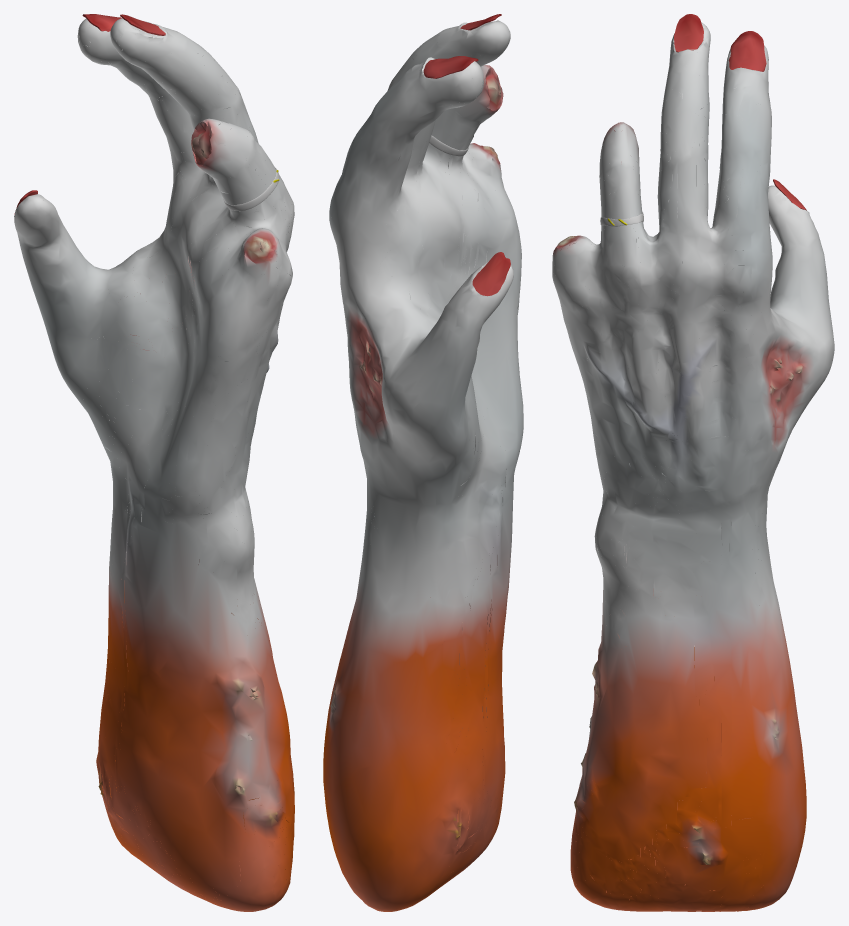
File: sketchfab-zombie-hand-ruella.glb
3 views of the same model, side by side, from view 1: azimuth 30°, elevation 25°; view 2: azimuth 150°, elevation 25°; view 3: azimuth 270°, elevation 25° (orthographic). The views are drawn at different scales.
Visible parts, largest first — view 1: Object_11, Object_12, Object_5; view 2: Object_11, Object_12, Object_5; view 3: Object_11, Object_12, Object_5.
Boxes of the visible parts, box(x1,y1,x2,y2) form: Object_11: box(14, 18, 294, 911); Object_12: box(42, 21, 294, 909); Object_5: box(14, 14, 165, 214); Object_11: box(323, 20, 523, 911); Object_12: box(331, 22, 523, 888); Object_5: box(423, 14, 510, 296); Object_11: box(552, 22, 834, 911); Object_12: box(553, 35, 776, 911); Object_5: box(674, 14, 806, 210).
Bounding box in the file's own units: 0.9803 × 3.84 × 1.15.
